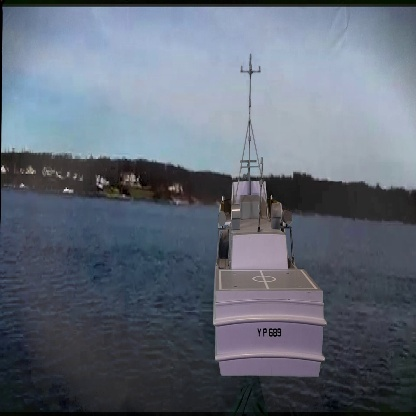YP689: (211, 57, 327, 377)
